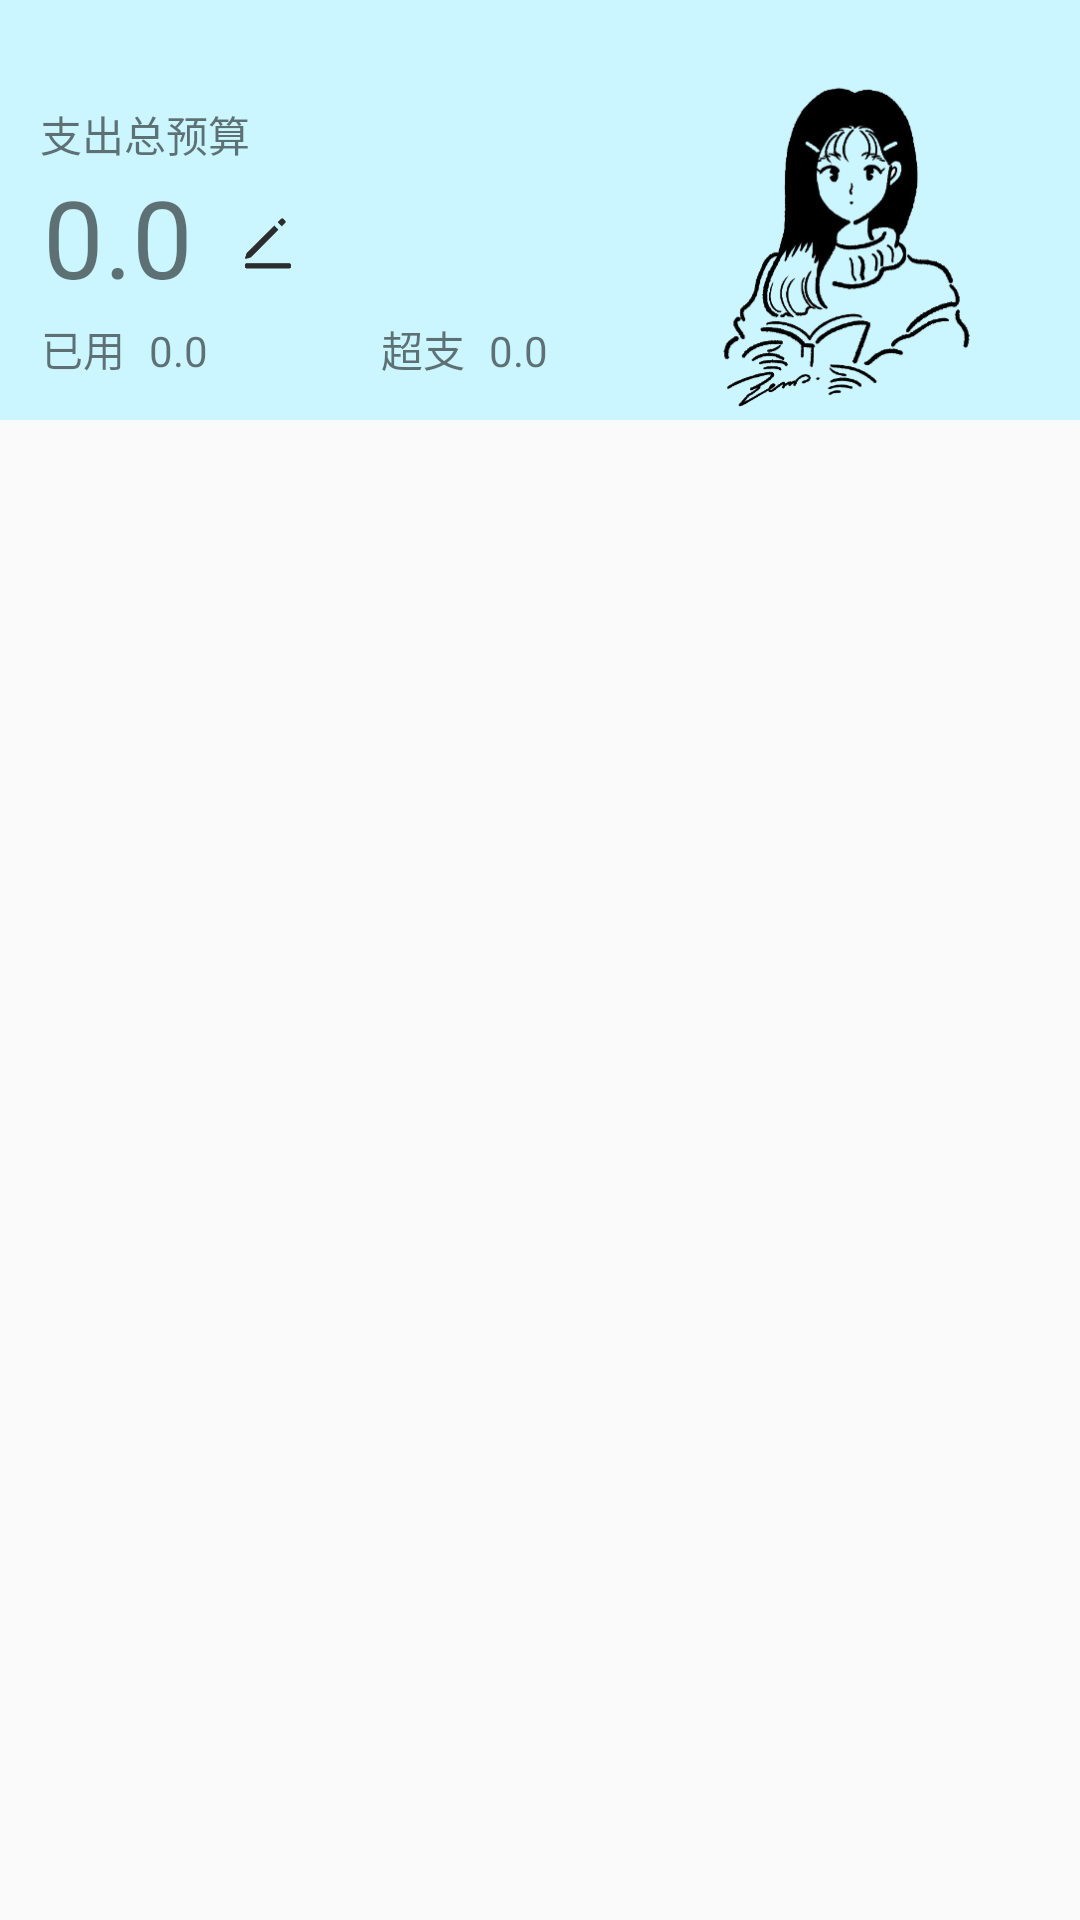

Icons on this 1080 × 1920 Android screen, each with the point to tap as point (x, y):
edit budget: point (268, 243)
